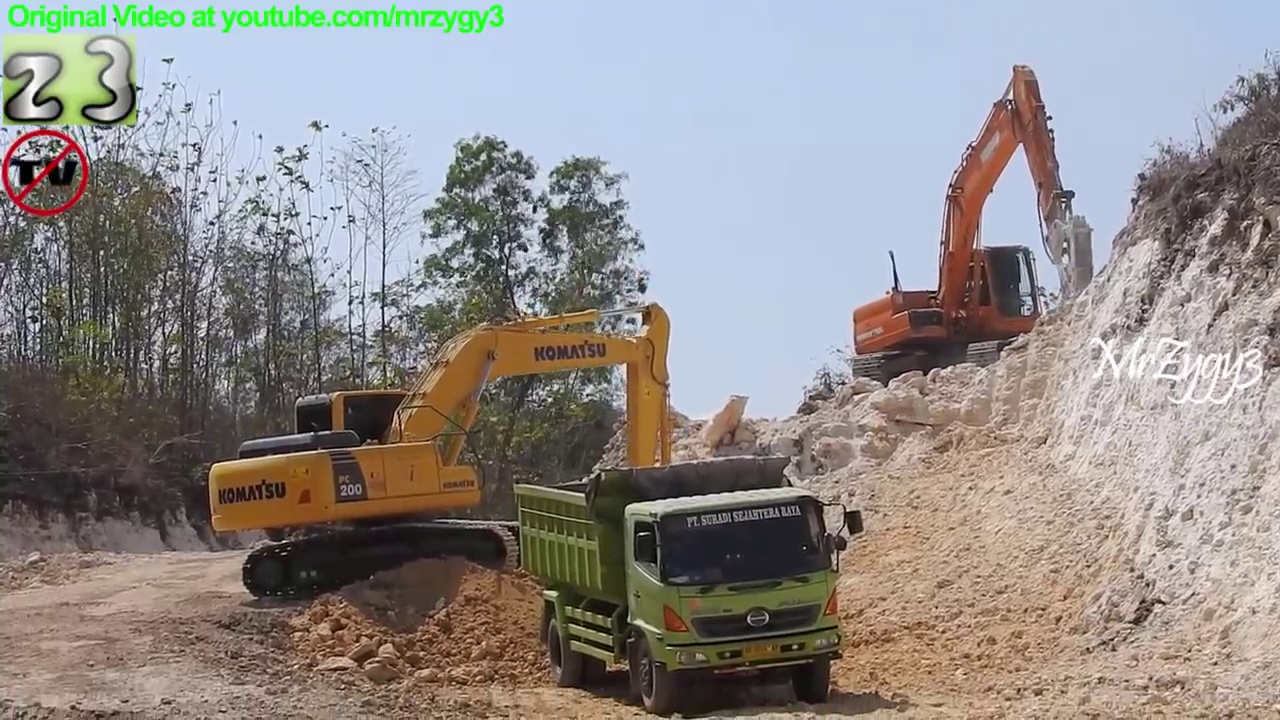excavator: (207, 300, 692, 609), (847, 61, 1099, 388)
truck: (507, 452, 871, 714)
